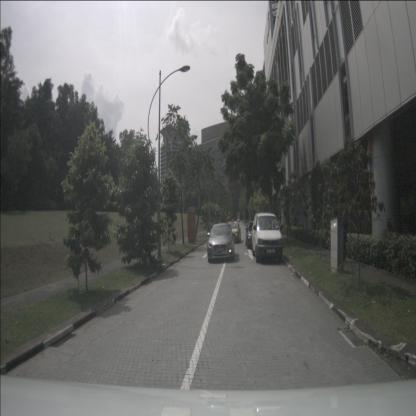vehicle-car: (252, 213, 283, 264), (207, 223, 234, 263), (245, 221, 261, 249), (226, 221, 241, 244)
